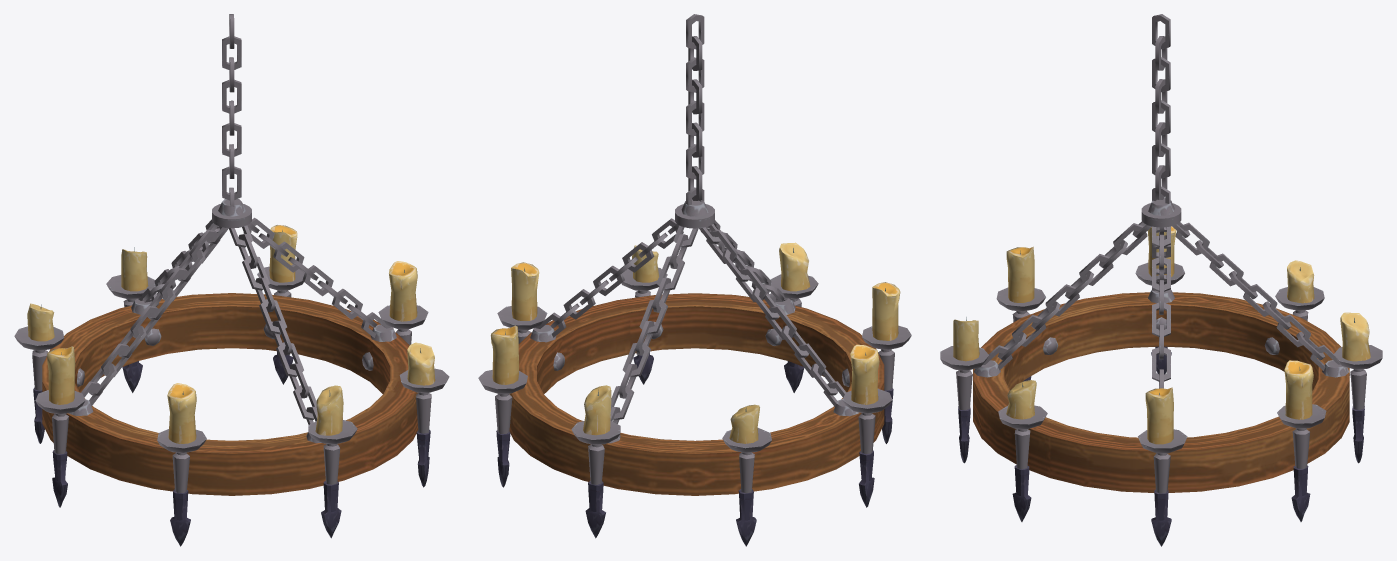
File: Chandelier.gltf
The picture shows the model from 3 angles, left to right: view 1: azimuth 30°, elevation 25°; view 2: azimuth 150°, elevation 25°; view 3: azimuth 270°, elevation 25°; orthographic projection.
Parts seen in each view (by area): view 1: Chandelier; view 2: Chandelier; view 3: Chandelier.
Boxes of the visible parts, left/top/right/bottom form: Chandelier: left=14, top=14, right=449, bottom=546; Chandelier: left=478, top=14, right=911, bottom=546; Chandelier: left=940, top=14, right=1382, bottom=546.
Bounding box in the file's own units: 1.3 × 1.46 × 1.3.
Materials: 3 (3 with a texture image).
